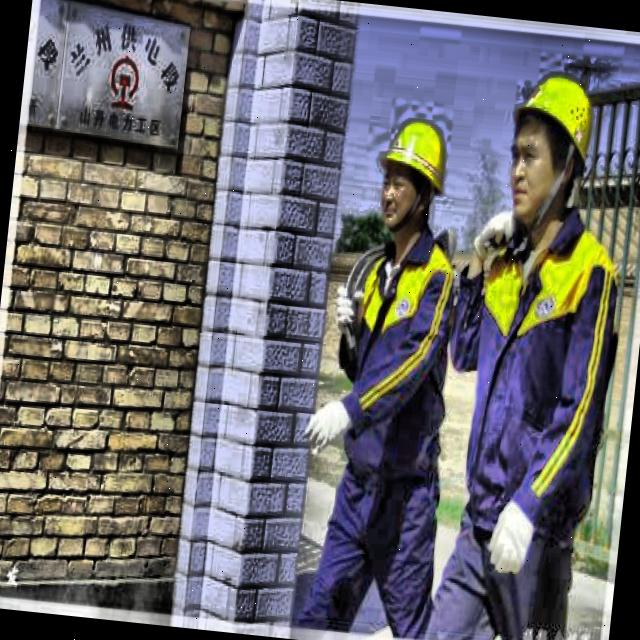helmet: (488, 43, 612, 235), (368, 101, 458, 246)
